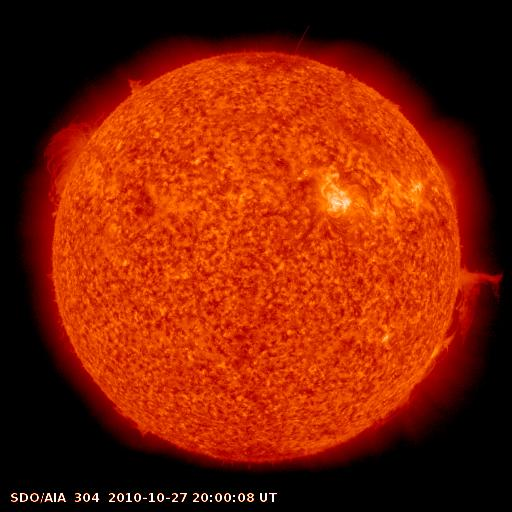prominence: (417, 257, 508, 383), (28, 111, 105, 215), (116, 66, 157, 100)
